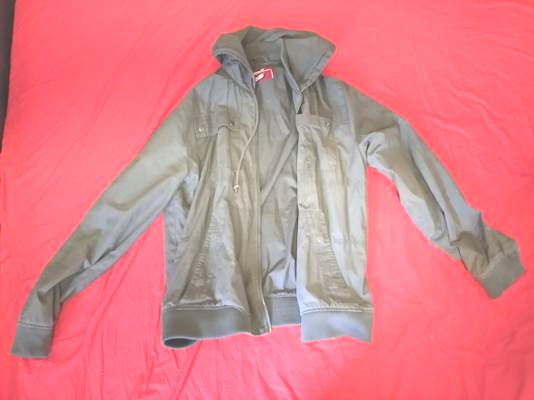Hoodie: (6, 27, 516, 361)
